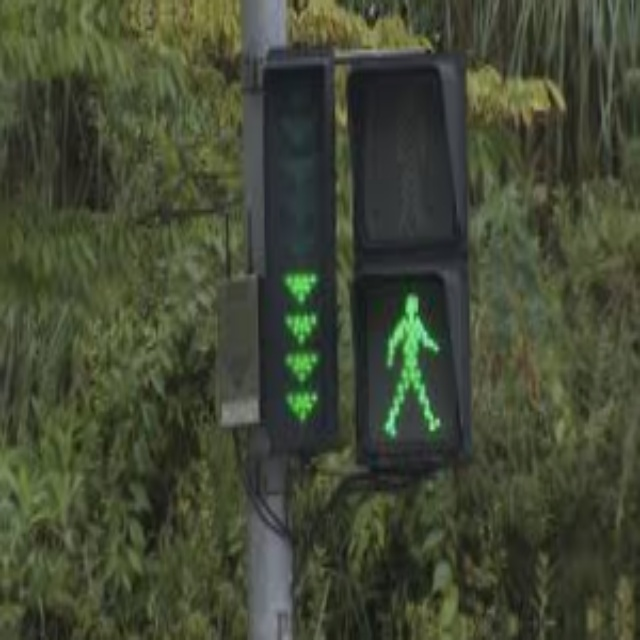green_light: (377, 288, 447, 444), (280, 386, 325, 427), (277, 269, 323, 304), (284, 347, 323, 380), (284, 309, 321, 343)
